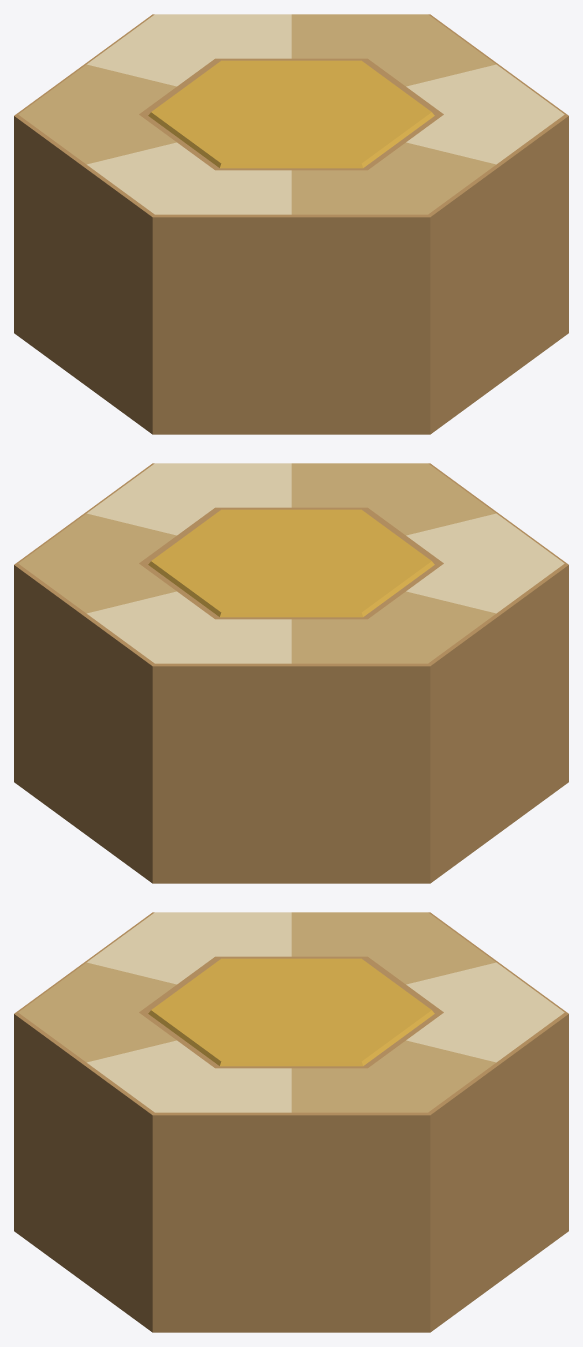
File: b-hex-mosaic.glb
3 views of the same model, one above another, from view 1: azimuth 30°, elevation 25°; view 2: azimuth 150°, elevation 25°; view 3: azimuth 270°, elevation 25° (orthographic).
Visible parts, largest first — view 1: b-hex-mosaic; view 2: b-hex-mosaic; view 3: b-hex-mosaic.
Part boxes in pixels (x1,y1,x2,y2): b-hex-mosaic: [14, 14, 568, 434]; b-hex-mosaic: [14, 463, 568, 883]; b-hex-mosaic: [14, 912, 568, 1332].
Bounding box in the file's own units: 2 × 1.01 × 2.31.
